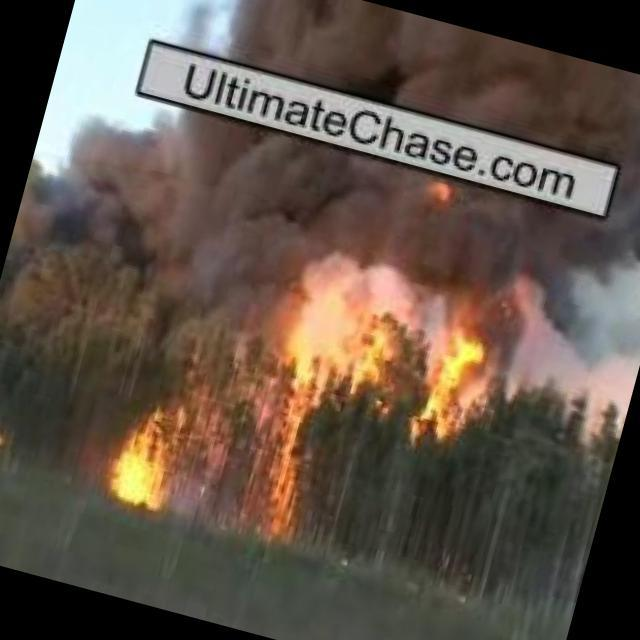Fire: (237, 335, 339, 548), (400, 291, 513, 451), (104, 387, 192, 509)
